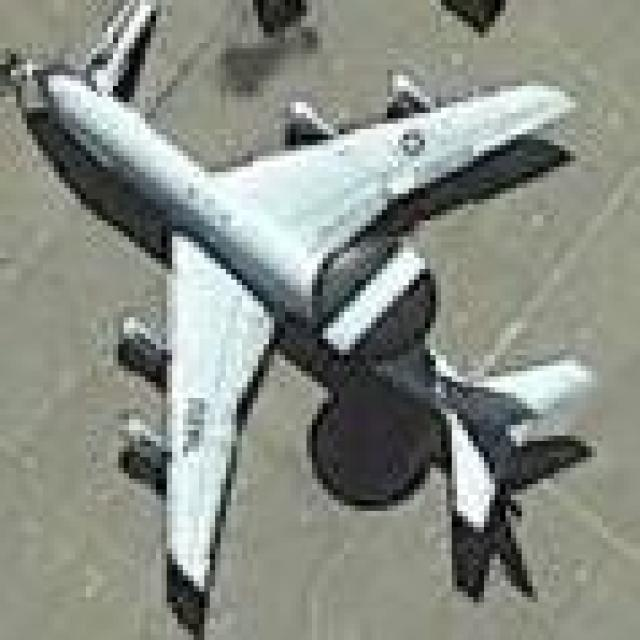E-3_TopDown: (0, 0, 602, 634)
